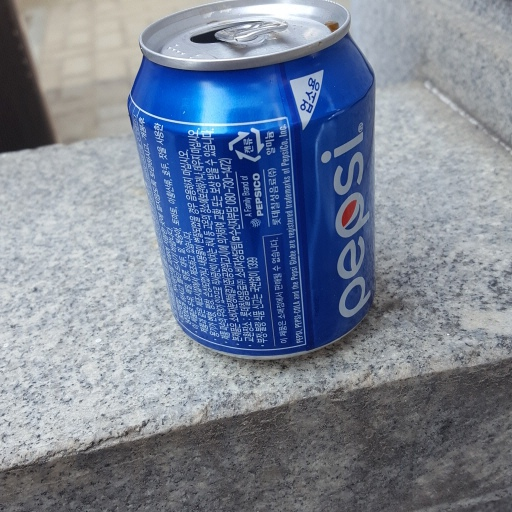Metal_0: (127, 3, 381, 362)
